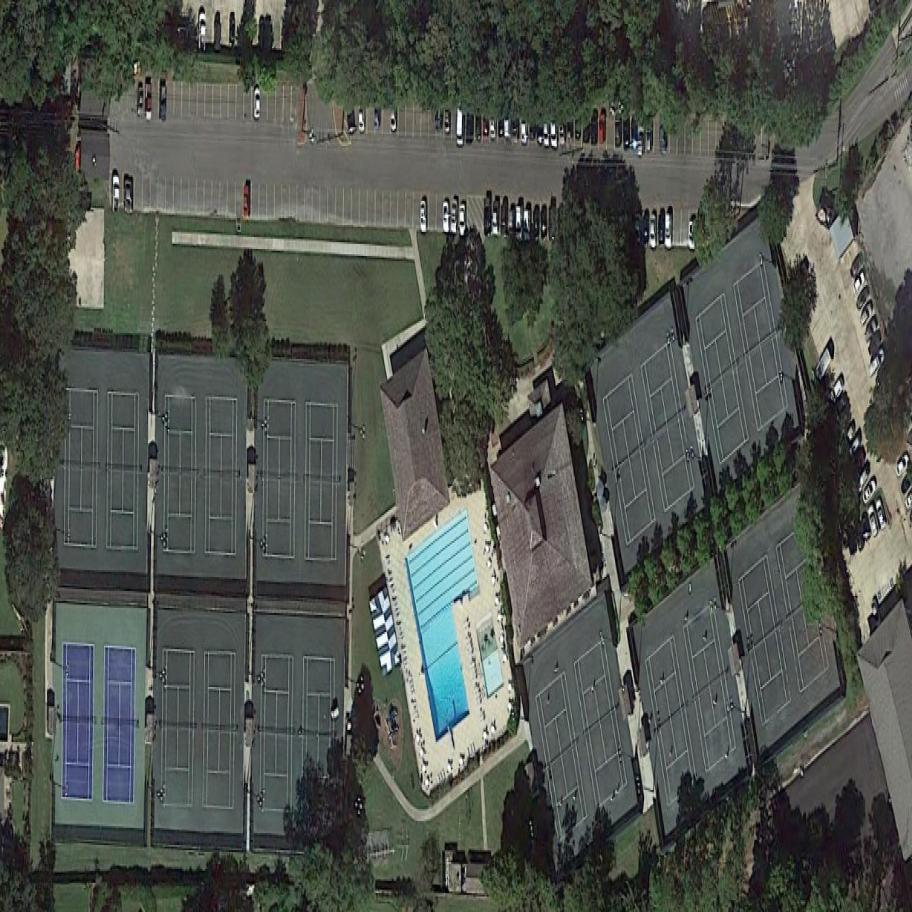small-vehicle: (809, 345, 837, 385), (863, 344, 892, 381), (861, 326, 887, 361), (857, 313, 885, 345), (857, 474, 883, 508), (845, 249, 870, 284), (824, 374, 850, 407), (854, 297, 879, 330), (852, 462, 875, 497), (847, 268, 871, 299), (851, 283, 875, 314), (872, 495, 891, 534), (865, 502, 883, 543), (844, 431, 867, 462), (830, 392, 853, 420), (853, 517, 867, 555), (345, 93, 357, 134), (869, 598, 884, 629), (859, 512, 873, 543), (456, 105, 465, 149), (483, 196, 492, 239), (492, 196, 501, 239), (633, 211, 643, 248), (500, 199, 509, 240), (124, 175, 133, 215), (637, 122, 647, 158), (112, 172, 120, 215), (198, 10, 206, 53), (466, 106, 475, 144), (515, 204, 524, 242), (590, 112, 599, 148), (442, 201, 451, 235), (435, 98, 444, 132), (531, 208, 540, 242), (645, 119, 654, 153), (214, 15, 222, 53), (475, 106, 483, 144), (660, 117, 668, 155), (549, 206, 557, 244), (508, 204, 516, 241), (614, 113, 622, 150), (540, 206, 548, 242), (642, 213, 650, 249), (358, 101, 366, 136), (420, 199, 428, 234), (160, 82, 167, 122), (490, 106, 498, 141), (558, 117, 567, 148), (512, 110, 520, 144), (623, 115, 631, 149), (631, 117, 639, 151), (244, 182, 251, 220), (451, 197, 458, 235), (665, 211, 672, 249), (658, 209, 665, 247), (258, 17, 266, 50), (688, 218, 696, 251), (253, 88, 261, 120), (229, 14, 236, 50), (521, 110, 528, 146), (374, 100, 382, 131), (444, 103, 452, 134), (504, 108, 512, 139), (146, 81, 152, 122), (137, 82, 144, 117), (650, 215, 657, 249), (599, 112, 606, 146), (583, 113, 590, 146), (551, 119, 558, 151), (524, 210, 531, 242), (391, 101, 398, 132), (537, 115, 544, 146), (460, 201, 466, 237), (530, 112, 536, 144), (483, 108, 489, 139), (498, 106, 504, 137), (544, 119, 550, 149), (576, 110, 582, 139)
